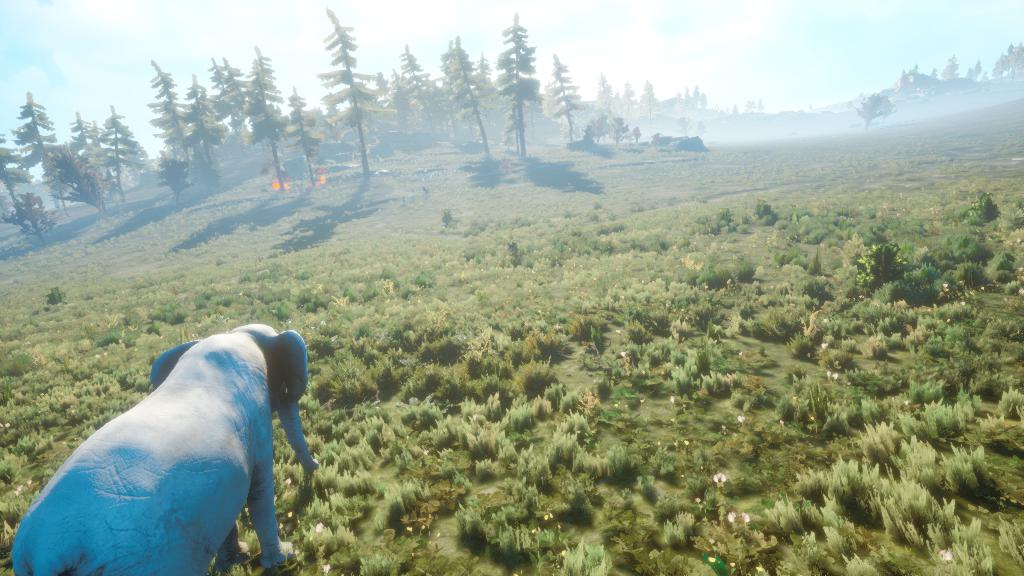Fire: (260, 173, 295, 197), (309, 167, 335, 197)
elephant: (0, 310, 349, 575)
